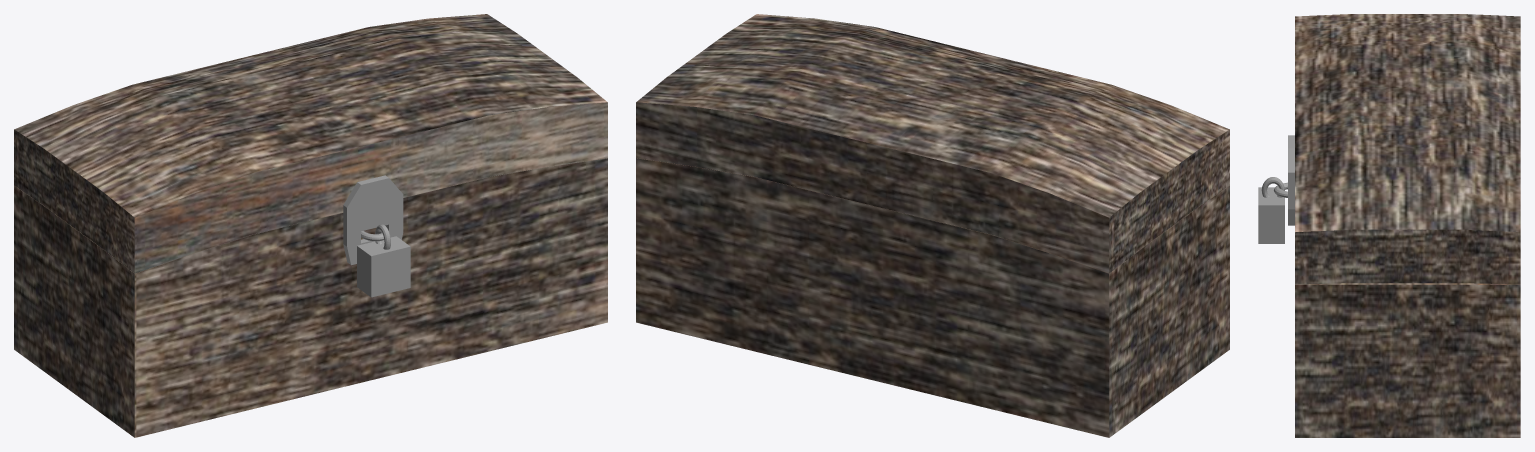
File: skrinja.gltf
3 renders of one model, left to right at view 1: azimuth 30°, elevation 25°; view 2: azimuth 150°, elevation 25°; view 3: azimuth 270°, elevation 25°, orthographic. The views are drawn at different scales.
Visible parts, largest first — view 1: Cube, Cube.001, Plane.001, Cube.002; view 2: Cube, Cube.001; view 3: Cube.001, Cube, Cube.002, Plane.001.
Boxes of the visible parts, x1,y1,x2,y2 form: Cube: [14, 158, 607, 437]; Cube.001: [14, 14, 607, 273]; Plane.001: [343, 175, 403, 265]; Cube.002: [357, 236, 410, 297]; Cube: [636, 158, 1229, 437]; Cube.001: [636, 14, 1229, 273]; Cube.001: [1295, 14, 1520, 284]; Cube: [1295, 283, 1520, 437]; Cube.002: [1258, 187, 1284, 243]; Plane.001: [1288, 135, 1294, 225].
Bounding box in the file's own units: 4.53 × 2.25 × 2.33.
Materials: 2 (2 with a texture image).
